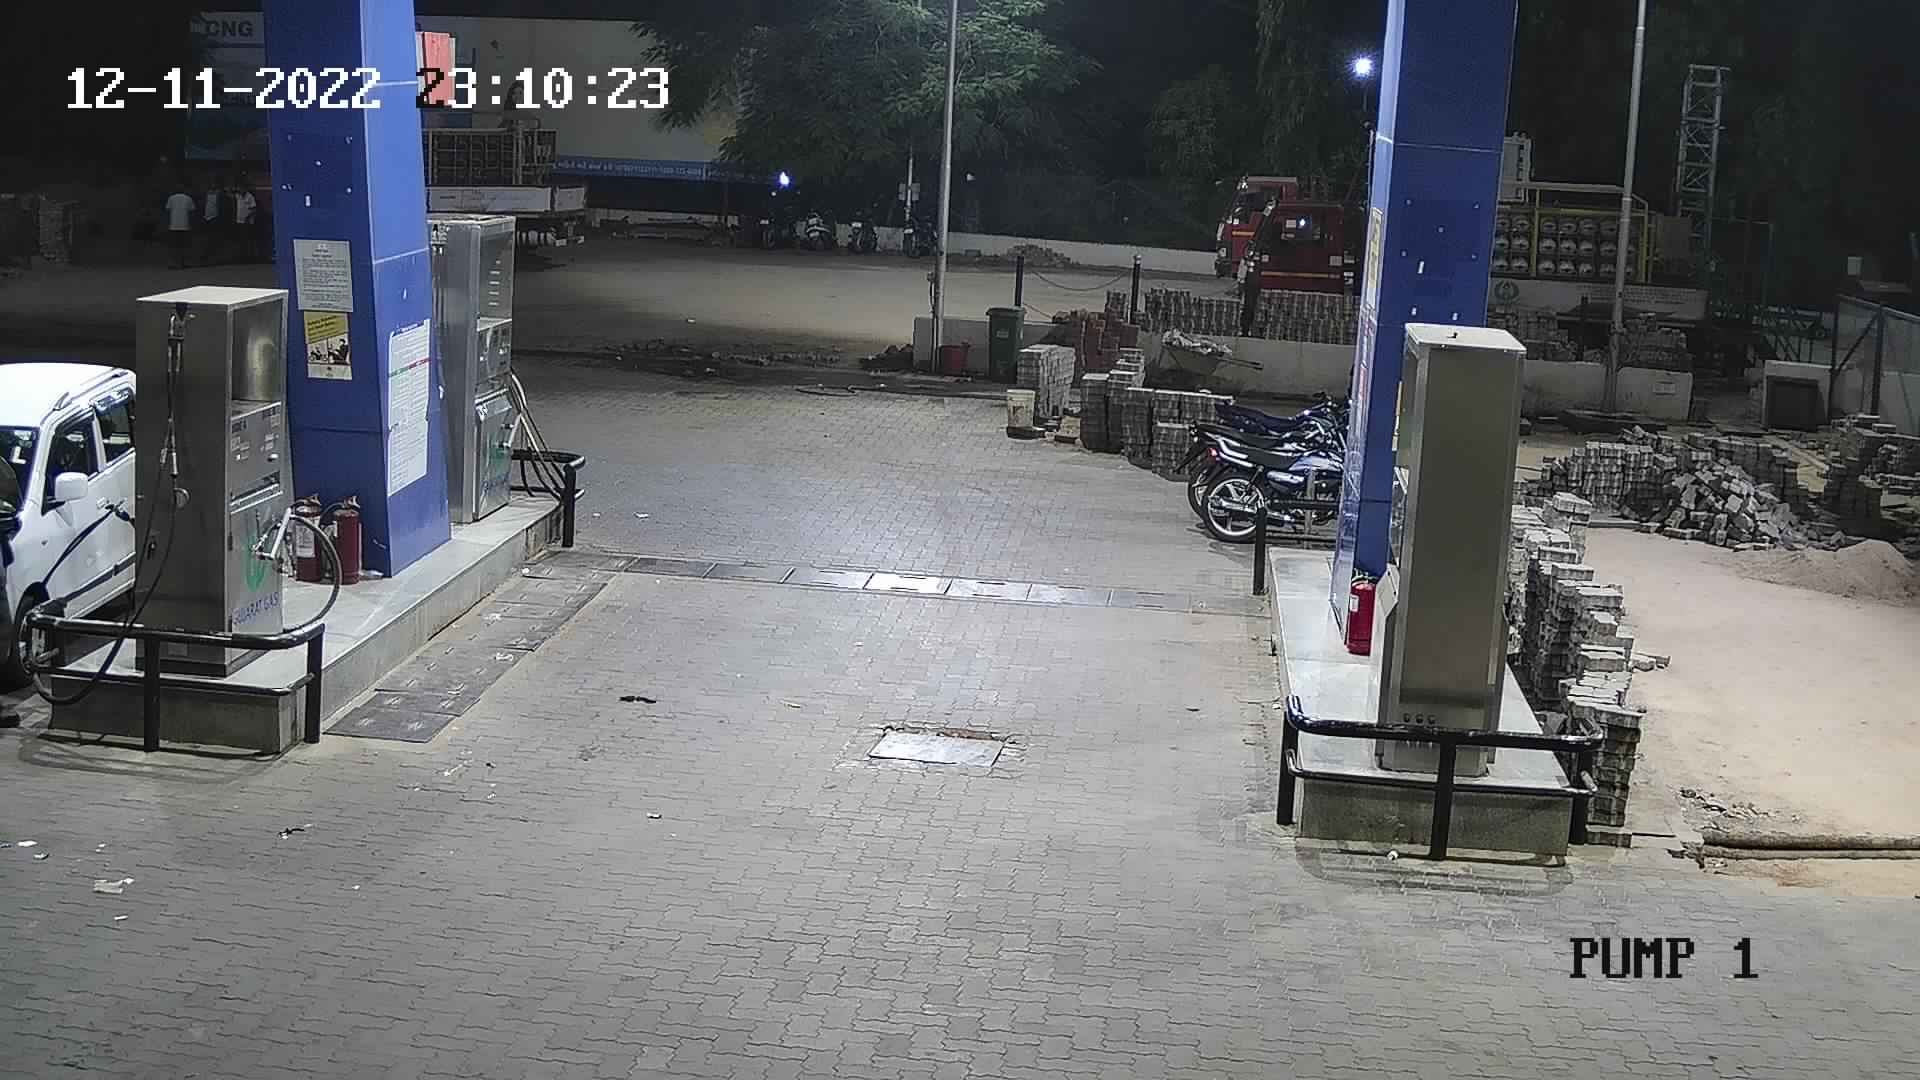Bike: (1179, 397, 1349, 554), (744, 181, 807, 255), (791, 175, 843, 260), (836, 186, 891, 258), (891, 191, 940, 266)
Car: (1, 328, 179, 687)
HMV: (392, 73, 603, 266), (1199, 107, 1379, 281), (1224, 179, 1373, 338)
